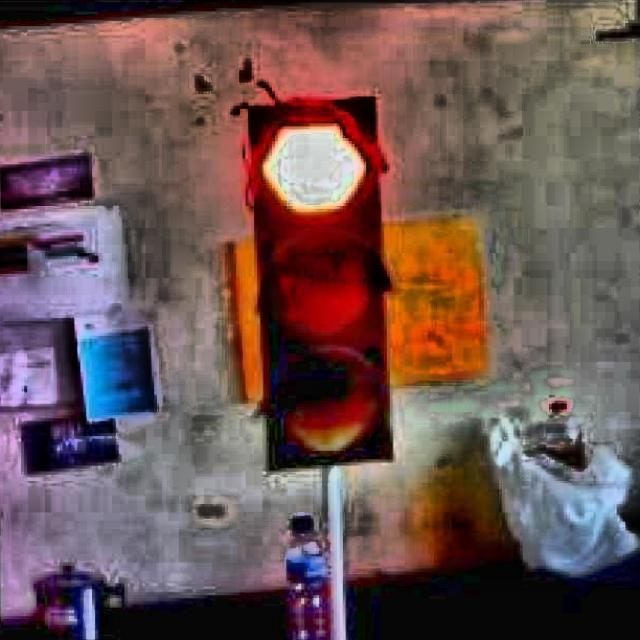red: (256, 88, 384, 476)
